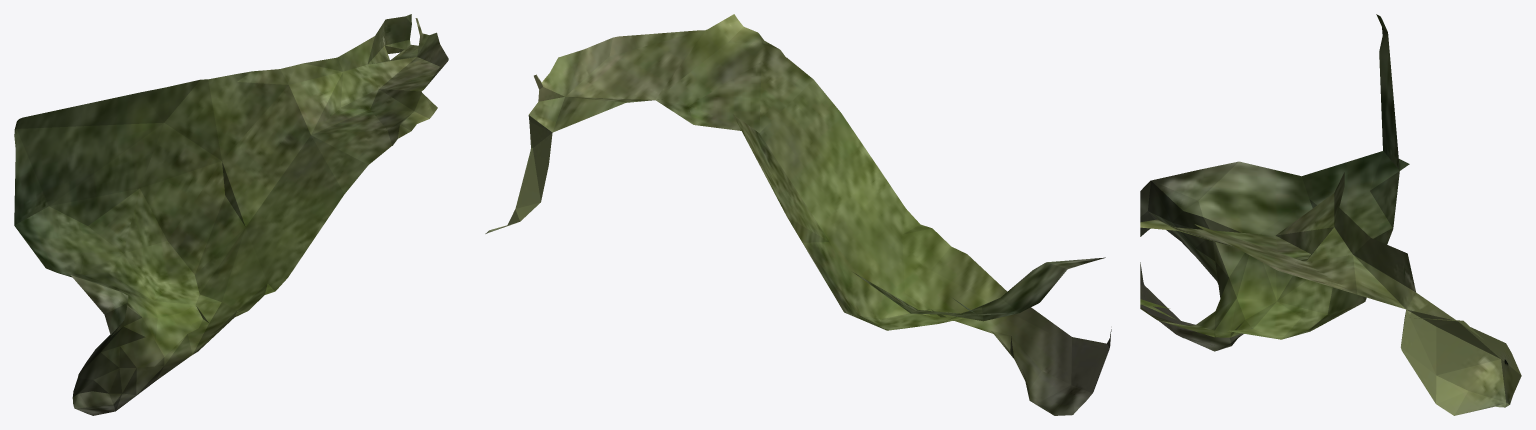
The picture shows the model from 3 angles, left to right: view 1: azimuth 30°, elevation 25°; view 2: azimuth 150°, elevation 25°; view 3: azimuth 270°, elevation 25°; orthographic projection. The views are drawn at different scales.
Size of the model in its own units: 2.95 by 1.72 by 1.86.
Materials: 2 (2 with a texture image).
